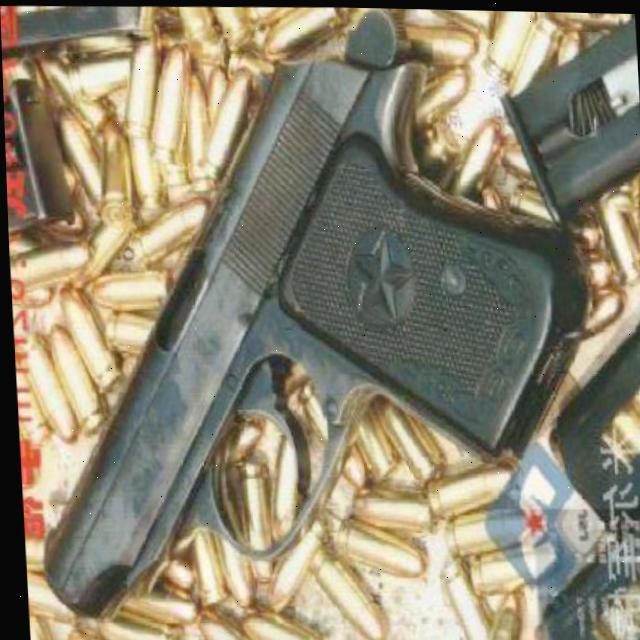gun: (6, 0, 593, 627)
